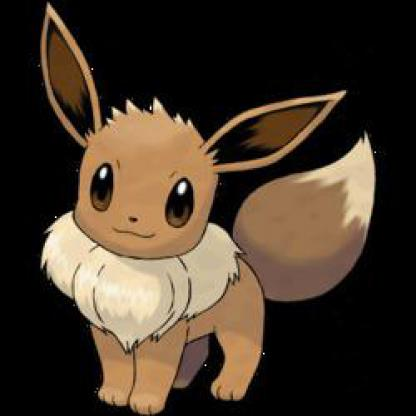Eevee: (1, 1, 416, 388), (28, 1, 415, 407)
